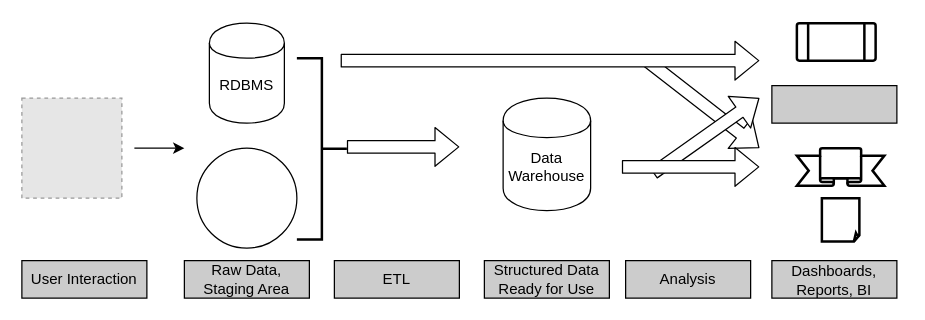
Image size: 925x320. Some labels were removed from this diagram. Grey dashed boxes stand in for pictures. The shapes that lost their labels are listed below. From the top down, each one's box as (x1, y1, x2, y2) in pixels, then its label:
(771, 84, 897, 123): Modeling, Machine Learning, etc.
(196, 147, 297, 248): Other Source
